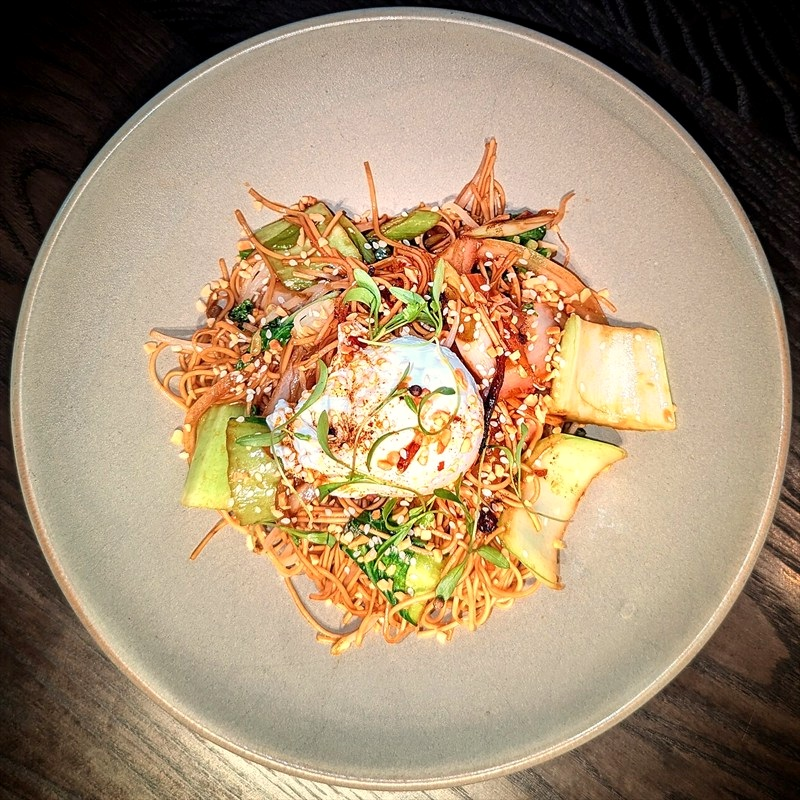Mie Goreng: (182, 179, 633, 635)
